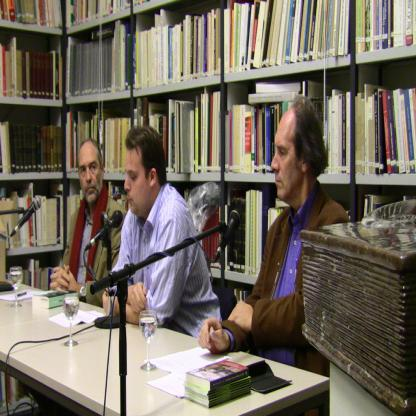book: (0, 0, 416, 382), (184, 357, 248, 391)
